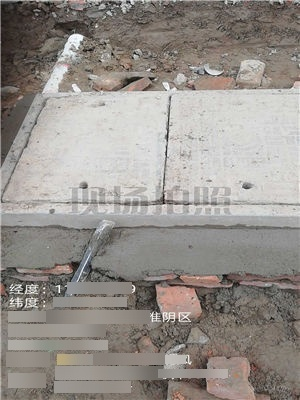good: (1, 88, 300, 226)
